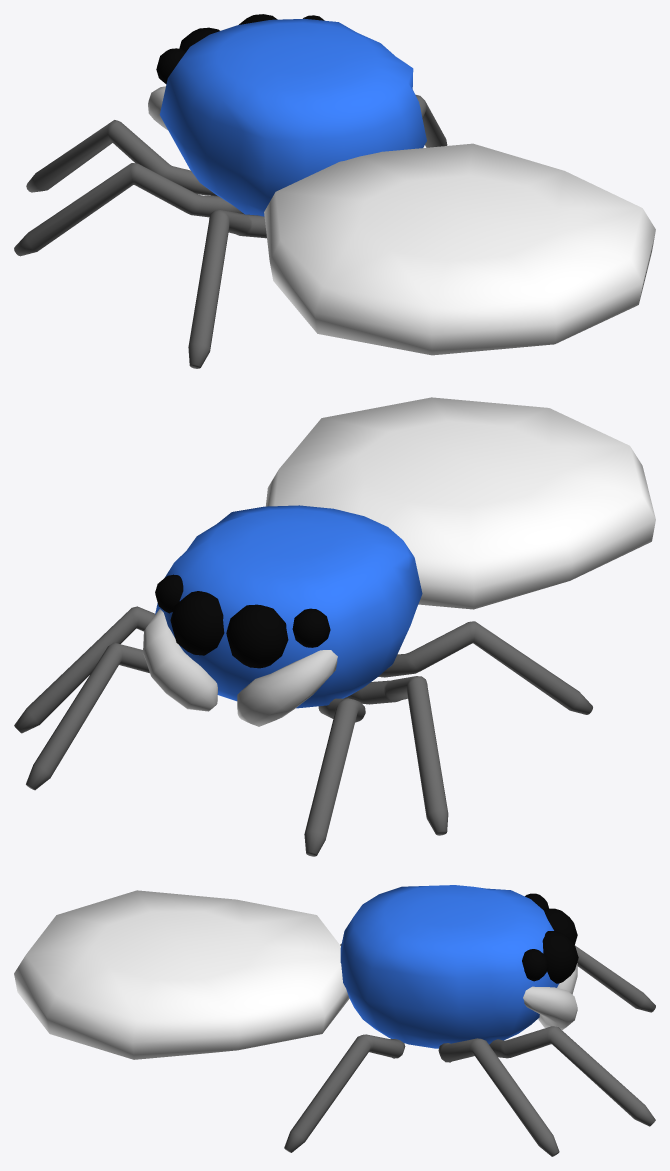
The model's file is Spider55.glb.
3 renders of one model, top to bottom at view 1: azimuth 30°, elevation 25°; view 2: azimuth 150°, elevation 25°; view 3: azimuth 270°, elevation 25°, orthographic. The views are drawn at different scales.
Parts seen in each view (by area): view 1: Butt, Head, Leg.003, Leg.005, Leg.001, Leg.002, Eye.002; view 2: Butt, Head, Leg.005, Leg.003, Pincer.001, Pincer, Leg, Leg.001, Leg.002, Eye, Eye.001, Eye.002 (+1 smaller); view 3: Butt, Head, Leg, Leg.002, Leg.004, Pincer, Leg.001, Eye.001, Eye.003, Eye.
Boxes of the visible parts, x1,y1,x2,y2 form: Butt: [264, 143, 655, 355]; Head: [159, 18, 426, 216]; Leg.003: [14, 163, 244, 256]; Leg.005: [188, 210, 266, 368]; Leg.001: [26, 120, 217, 196]; Leg.002: [415, 94, 447, 147]; Eye.002: [156, 48, 185, 84]; Butt: [265, 397, 655, 609]; Head: [155, 505, 422, 708]; Leg.005: [378, 621, 592, 714]; Leg.003: [343, 676, 448, 835]; Pincer.001: [237, 650, 337, 726]; Pincer: [143, 609, 217, 711]; Leg: [26, 642, 149, 790]; Leg.001: [304, 698, 365, 856]; Leg.002: [14, 606, 154, 733]; Eye: [226, 604, 288, 668]; Eye.001: [170, 591, 224, 655]; Eye.002: [292, 608, 330, 647]; Butt: [14, 890, 349, 1059]; Head: [340, 885, 559, 1048]; Leg: [489, 1026, 655, 1126]; Leg.002: [438, 1038, 559, 1156]; Leg.004: [284, 1034, 405, 1152]; Pincer: [523, 986, 577, 1029]; Leg.001: [575, 945, 655, 1012]; Eye.001: [542, 931, 578, 983]; Eye.003: [522, 949, 548, 981]; Eye: [543, 908, 577, 944].
Size of the model in its own units: 0.335 by 0.1467 by 0.521.
